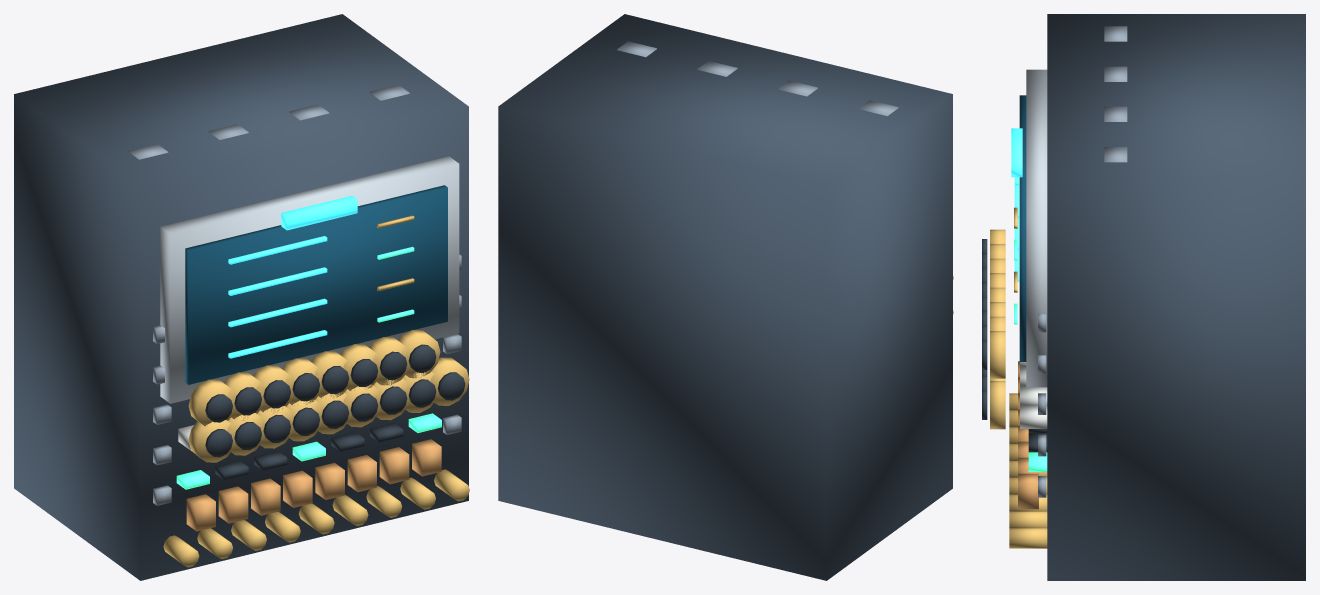
Rendered from 43_L88_OxygenGenerationProcessPLC.glb.
3 renders of one model, left to right at view 1: azimuth 30°, elevation 25°; view 2: azimuth 150°, elevation 25°; view 3: azimuth 270°, elevation 25°, orthographic. The views are drawn at different scales.
Visible parts, largest first — view 1: L87_OxygenGenerationProcessPL_Part_0000, L87_OxygenGenerationProcessPL_Part_0002, L87_OxygenGenerationProcessPL_Part_0001, L87_OxygenGenerationProcessPL_Part_0009, L87_OxygenGenerationProcessPL_Part_0004, L87_OxygenGenerationProcessPL_Part_0008, L87_OxygenGenerationProcessPL_Part_0003, L87_OxygenGenerationProcessPL_Part_0007, L87_OxygenGenerationProcessPL_Part_0005, L87_OxygenGenerationProcessPL_Part_0010, L87_OxygenGenerationProcessPL_Part_0029, L87_OxygenGenerationProcessPL_Part_0011 (+28 smaller); view 2: L87_OxygenGenerationProcessPL_Part_0000, L87_OxygenGenerationProcessPL_Part_0008; view 3: L87_OxygenGenerationProcessPL_Part_0000, L87_OxygenGenerationProcessPL_Part_0001, L87_OxygenGenerationProcessPL_Part_0004, L87_OxygenGenerationProcessPL_Part_0008, L87_OxygenGenerationProcessPL_Part_0002, L87_OxygenGenerationProcessPL_Part_0009, L87_OxygenGenerationProcessPL_Part_0006, L87_OxygenGenerationProcessPL_Part_0027, L87_OxygenGenerationProcessPL_Part_0043, L87_OxygenGenerationProcessPL_Part_0010, L87_OxygenGenerationProcessPL_Part_0005, L87_OxygenGenerationProcessPL_Part_0003.
Boxes of the visible parts, x1=… form: L87_OxygenGenerationProcessPL_Part_0000: x1=14, y1=14, x2=468, y2=580; L87_OxygenGenerationProcessPL_Part_0002: x1=185, y1=185, x2=447, y2=384; L87_OxygenGenerationProcessPL_Part_0001: x1=160, y1=156, x2=459, y2=403; L87_OxygenGenerationProcessPL_Part_0009: x1=186, y1=439, x2=441, y2=531; L87_OxygenGenerationProcessPL_Part_0004: x1=163, y1=215, x2=469, y2=567; L87_OxygenGenerationProcessPL_Part_0008: x1=128, y1=85, x2=461, y2=505; L87_OxygenGenerationProcessPL_Part_0003: x1=228, y1=236, x2=327, y2=358; L87_OxygenGenerationProcessPL_Part_0007: x1=215, y1=423, x2=403, y2=480; L87_OxygenGenerationProcessPL_Part_0005: x1=176, y1=246, x2=441, y2=489; L87_OxygenGenerationProcessPL_Part_0010: x1=281, y1=196, x2=357, y2=230; L87_OxygenGenerationProcessPL_Part_0029: x1=188, y1=379, x2=235, y2=426; L87_OxygenGenerationProcessPL_Part_0011: x1=188, y1=420, x2=235, y2=462; L87_OxygenGenerationProcessPL_Part_0000: x1=498, y1=14, x2=952, y2=580; L87_OxygenGenerationProcessPL_Part_0008: x1=617, y1=41, x2=898, y2=115; L87_OxygenGenerationProcessPL_Part_0000: x1=1047, y1=14, x2=1305, y2=580; L87_OxygenGenerationProcessPL_Part_0001: x1=1026, y1=69, x2=1047, y2=387; L87_OxygenGenerationProcessPL_Part_0004: x1=1009, y1=207, x2=1047, y2=548; L87_OxygenGenerationProcessPL_Part_0008: x1=1038, y1=26, x2=1127, y2=497; L87_OxygenGenerationProcessPL_Part_0002: x1=1019, y1=95, x2=1026, y2=361; L87_OxygenGenerationProcessPL_Part_0009: x1=1018, y1=361, x2=1038, y2=509; L87_OxygenGenerationProcessPL_Part_0006: x1=1020, y1=362, x2=1047, y2=428; L87_OxygenGenerationProcessPL_Part_0027: x1=990, y1=381, x2=1005, y2=429; L87_OxygenGenerationProcessPL_Part_0043: x1=990, y1=331, x2=1005, y2=378; L87_OxygenGenerationProcessPL_Part_0010: x1=1011, y1=128, x2=1022, y2=177; L87_OxygenGenerationProcessPL_Part_0005: x1=1014, y1=239, x2=1047, y2=471; L87_OxygenGenerationProcessPL_Part_0003: x1=1014, y1=177, x2=1019, y2=281.
Bounding box in the file's own units: 1.04 × 1.2 × 0.8688.
